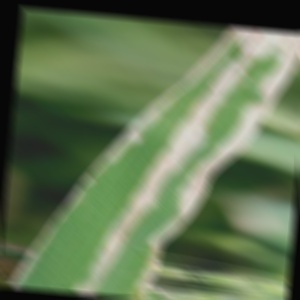Leaf_Blast: (141, 26, 266, 251)
